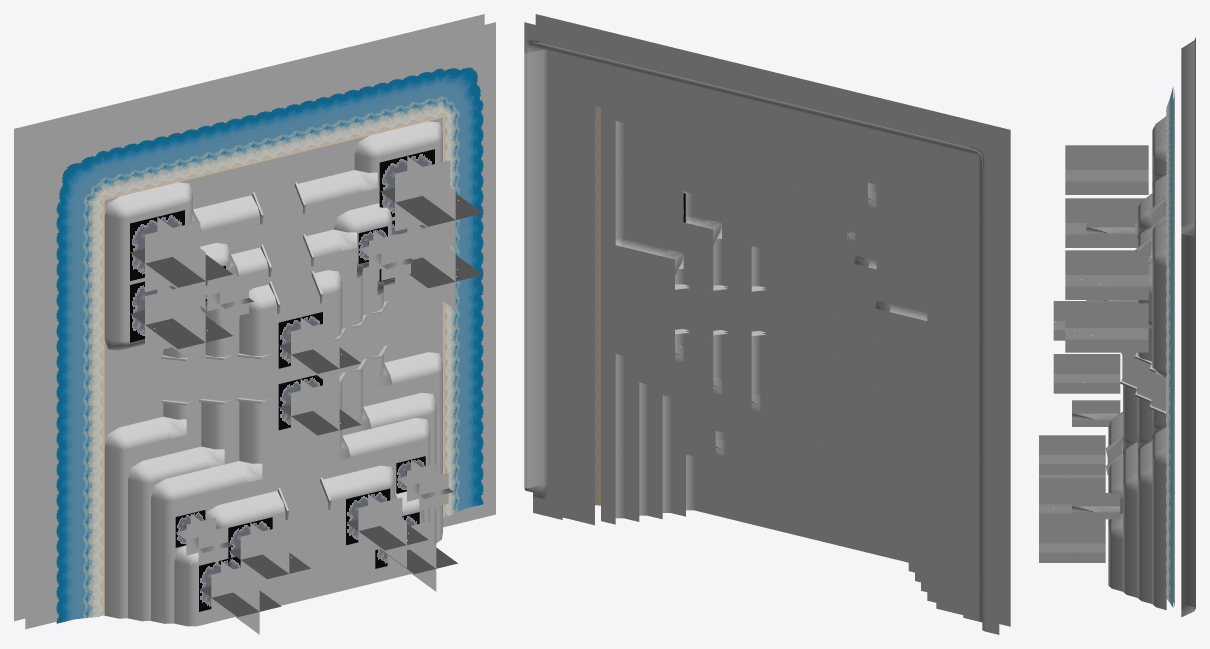
The model's file is Barrier-Reef_02_12.obj.
The picture shows the model from 3 angles, left to right: view 1: azimuth 30°, elevation 25°; view 2: azimuth 150°, elevation 25°; view 3: azimuth 270°, elevation 25°; orthographic projection. The views are drawn at different scales.
Visible parts, largest first — view 1: map; view 2: map; view 3: map.
Part boxes in pixels (left/top/right/bottom): map: left=14, top=14, right=495, bottom=634; map: left=524, top=14, right=1010, bottom=634; map: left=1039, top=37, right=1195, bottom=617.
Size of the model in its own units: 32 by 32 by 10.75.
